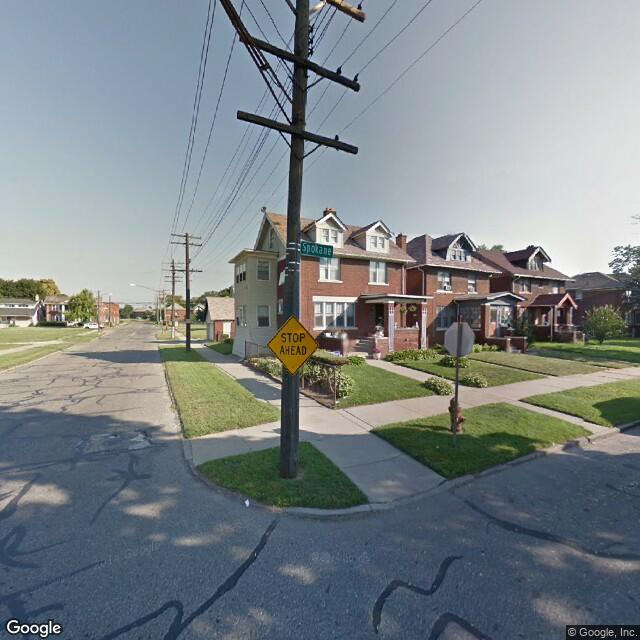litter: (236, 496, 258, 511), (431, 439, 444, 453)
